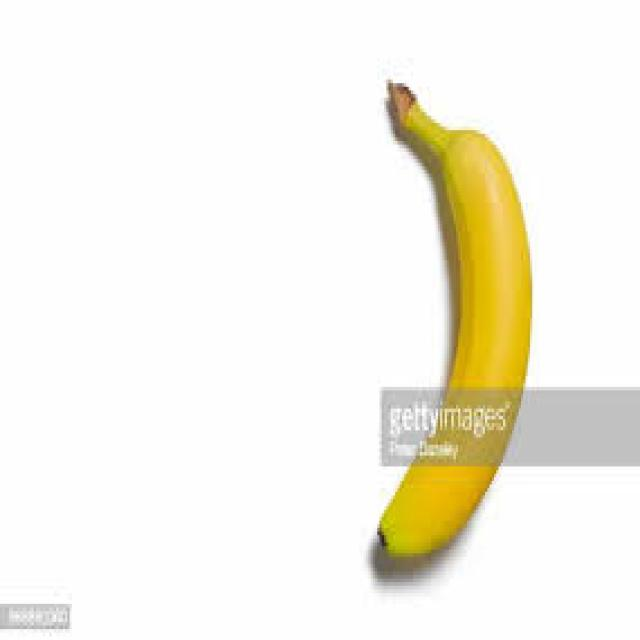banana: (375, 76, 532, 557)
